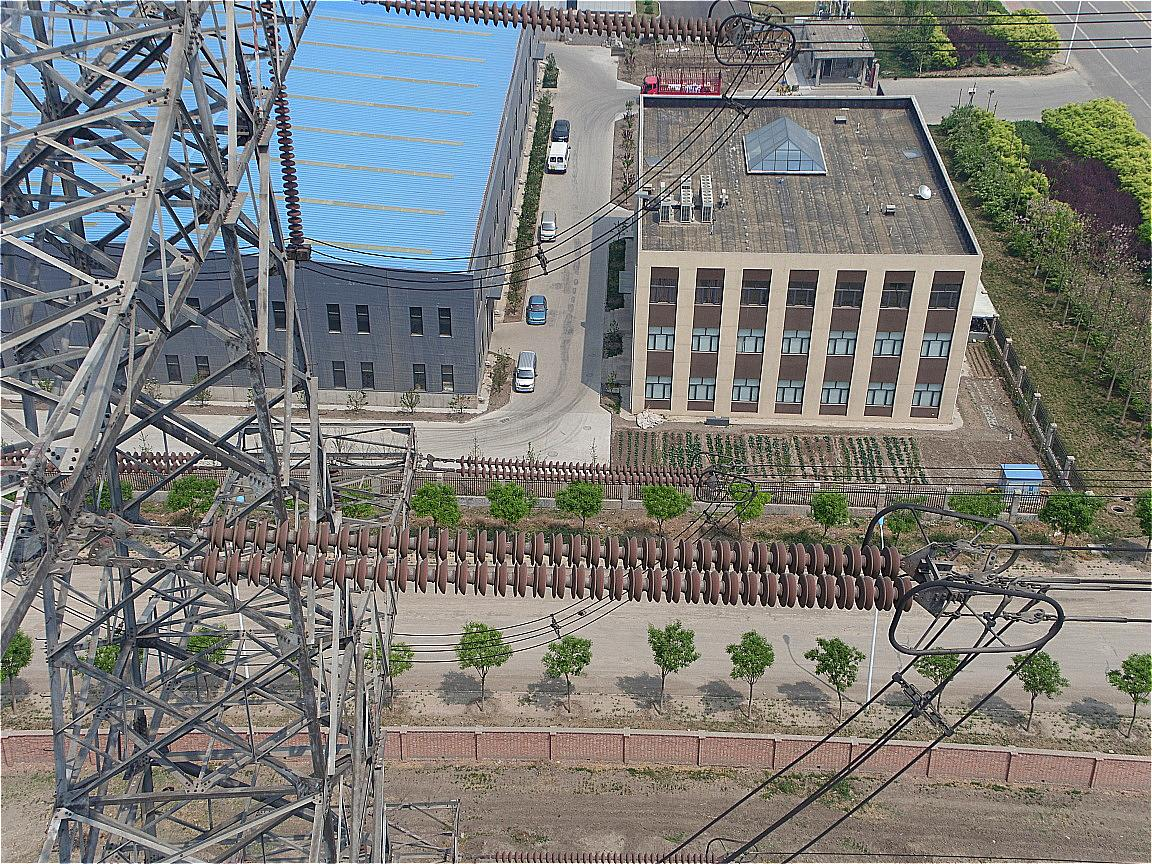insultor1: (384, 1, 726, 42), (458, 458, 705, 488)
insultor2: (203, 515, 913, 610)
